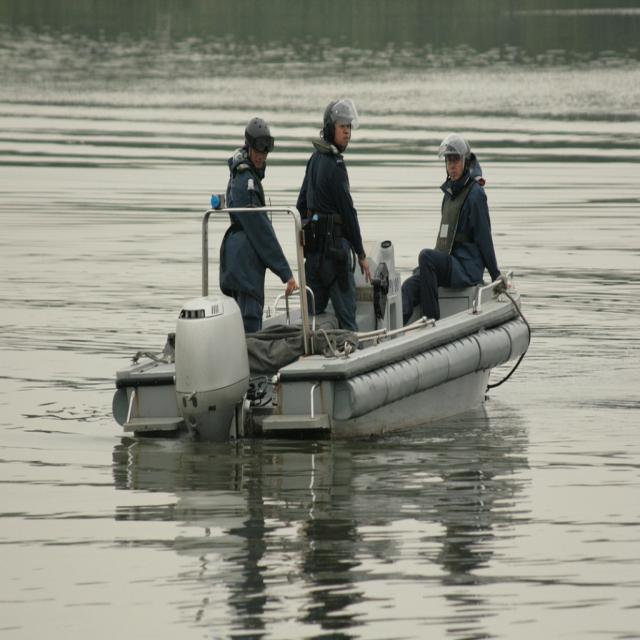Boat: (138, 200, 580, 438)
